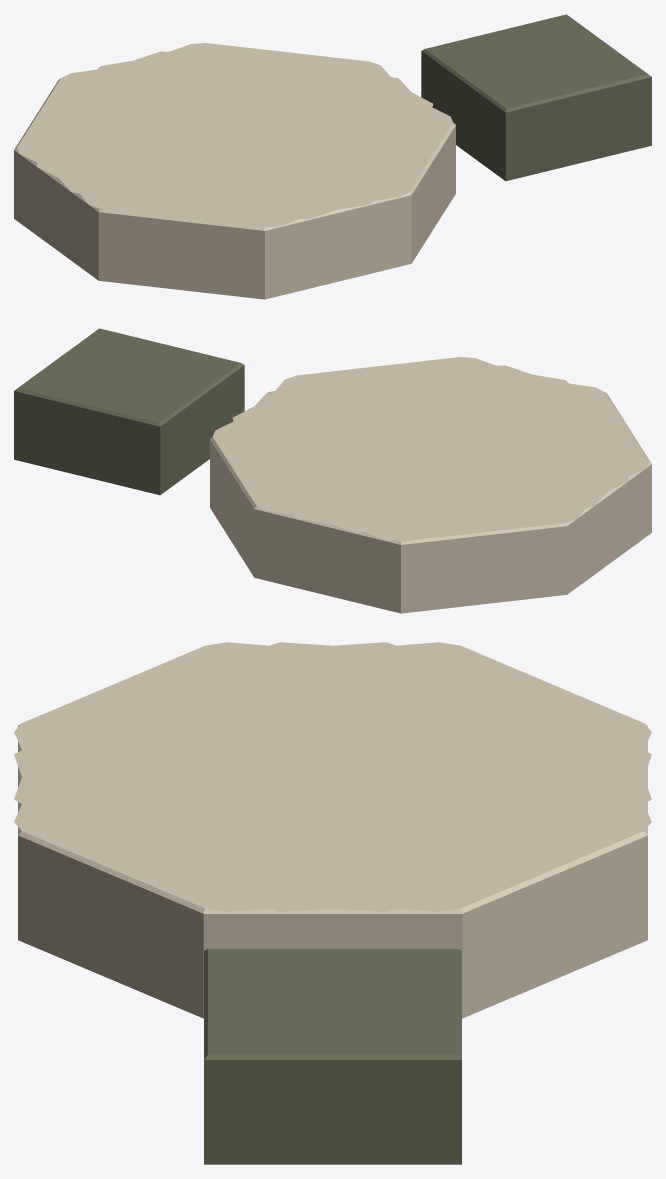
Rendered from mahsulot.glb.
3 views of the same model, one above another, from view 1: azimuth 30°, elevation 25°; view 2: azimuth 150°, elevation 25°; view 3: azimuth 270°, elevation 25° (orthographic). The views are drawn at different scales.
Parts seen in each view (by area): view 1: mahsulot_A, mahsulot_B; view 2: mahsulot_A, mahsulot_B; view 3: mahsulot_A, mahsulot_B.
Part boxes in pixels (x1=…): mahsulot_A: x1=14, y1=43, x2=455, y2=299; mahsulot_B: x1=421, y1=14, x2=651, y2=181; mahsulot_A: x1=210, y1=357, x2=651, y2=613; mahsulot_B: x1=14, y1=328, x2=244, y2=495; mahsulot_A: x1=14, y1=642, x2=651, y2=1018; mahsulot_B: x1=204, y1=949, x2=461, y2=1164.
Bounding box in the file's own units: 0.3685 × 0.045 × 0.24.
